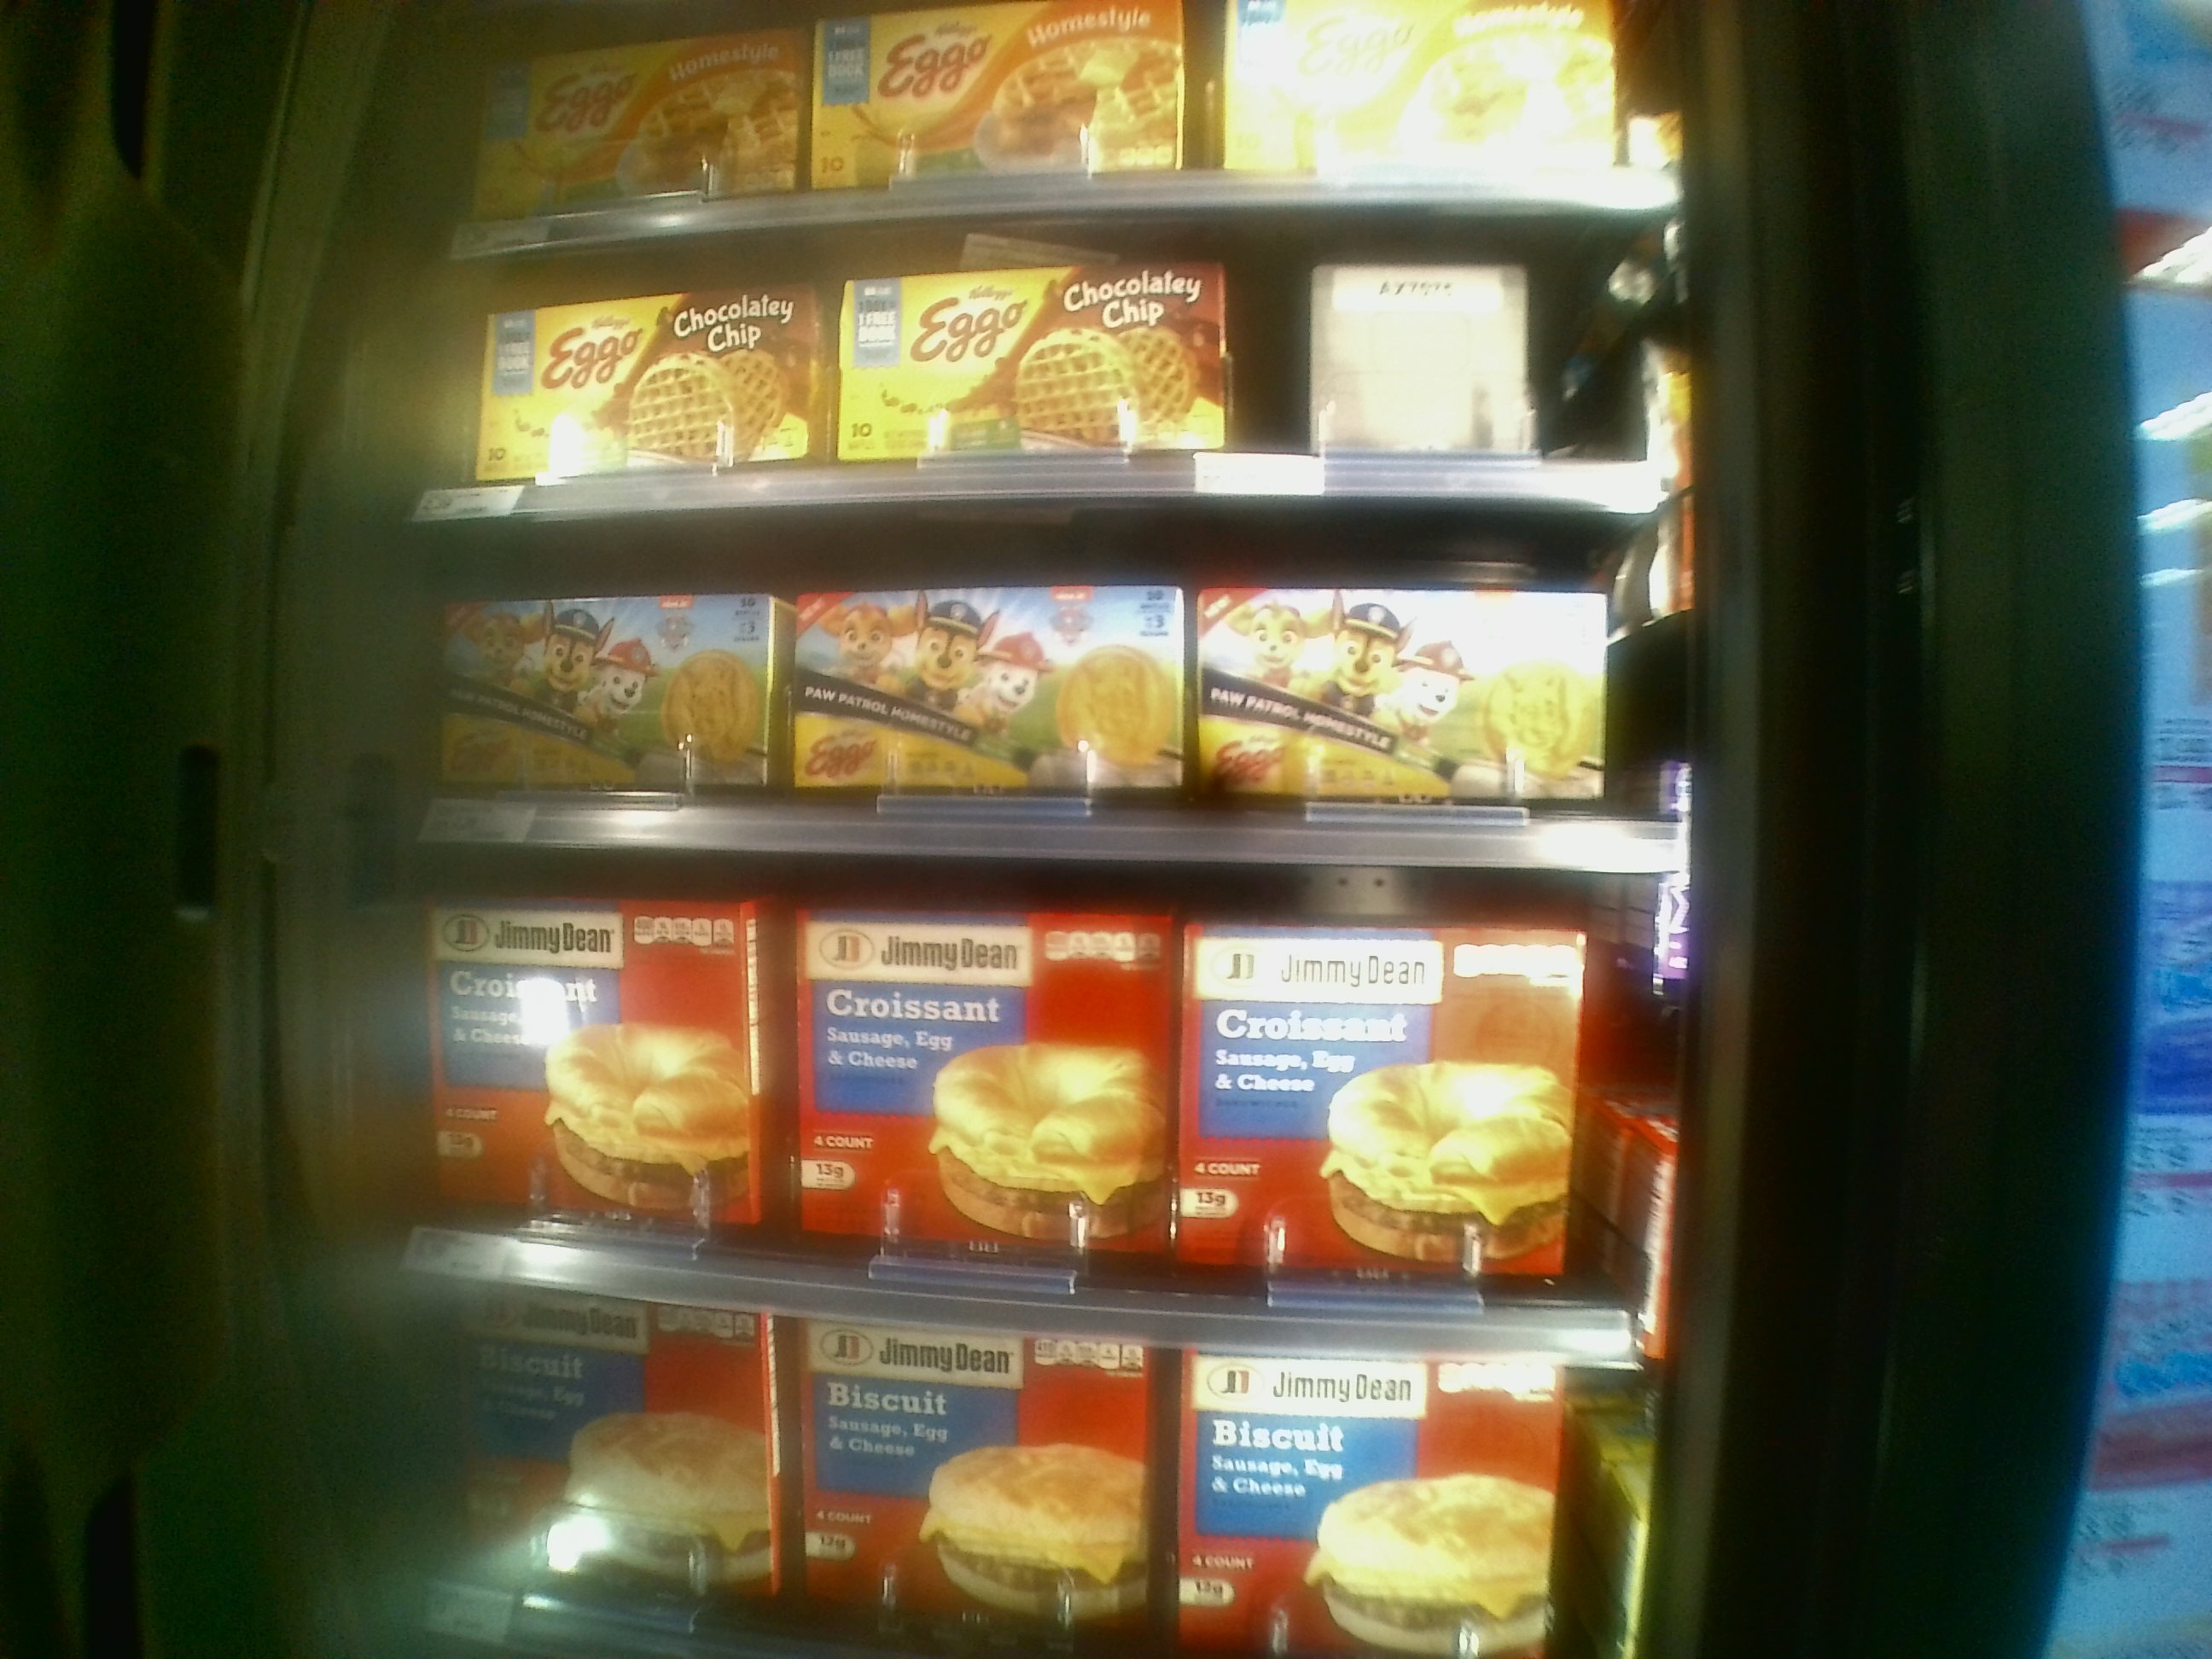shelf: (402, 831, 1665, 1359), (409, 507, 1667, 870), (404, 197, 1695, 512)
